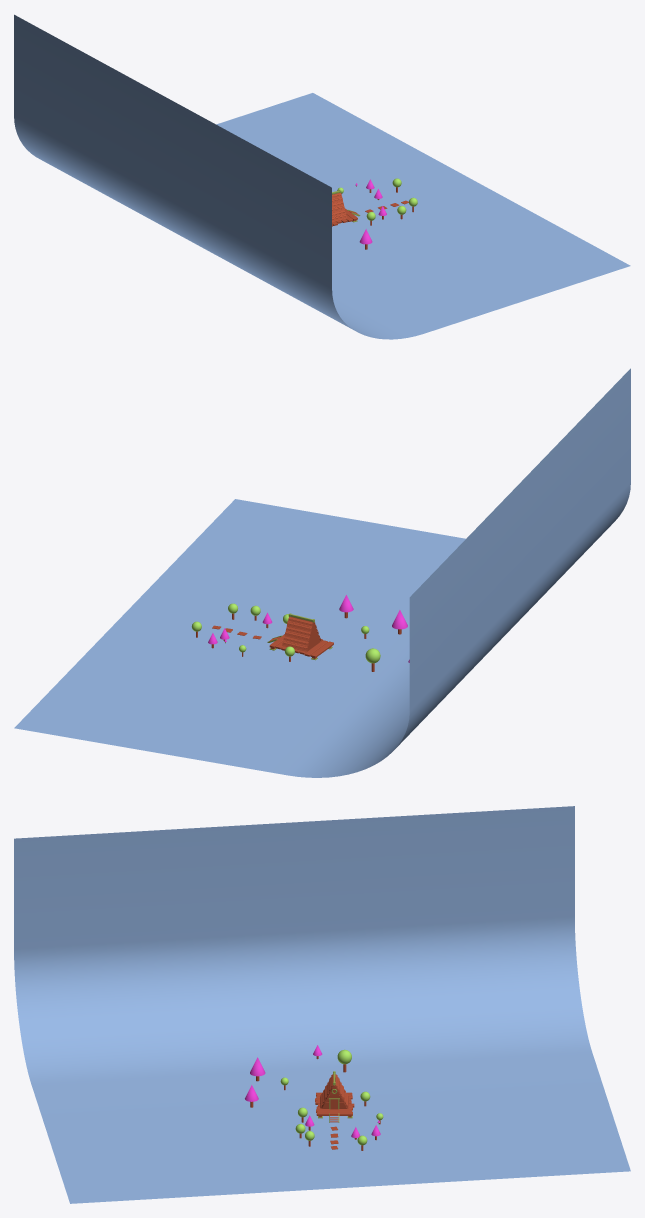
File: hamburger.glb
3 renders of one model, top to bottom at view 1: azimuth 30°, elevation 25°; view 2: azimuth 150°, elevation 25°; view 3: azimuth 270°, elevation 25°, orthographic. The views are drawn at different scales.
Visible parts, largest first — view 1: Plane; view 2: Plane, Slabs; view 3: Plane.
Boxes of the visible parts, x1,y1,x2,y2 form: Plane: [14, 14, 630, 339]; Plane: [14, 368, 630, 777]; Slabs: [282, 617, 321, 651]; Plane: [14, 806, 630, 1203].
Bounding box in the file's own units: 26.76 × 11.78 × 33.97.
